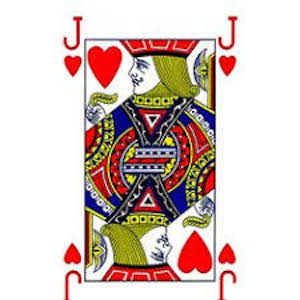JackOfHearts: (54, 11, 251, 299)
